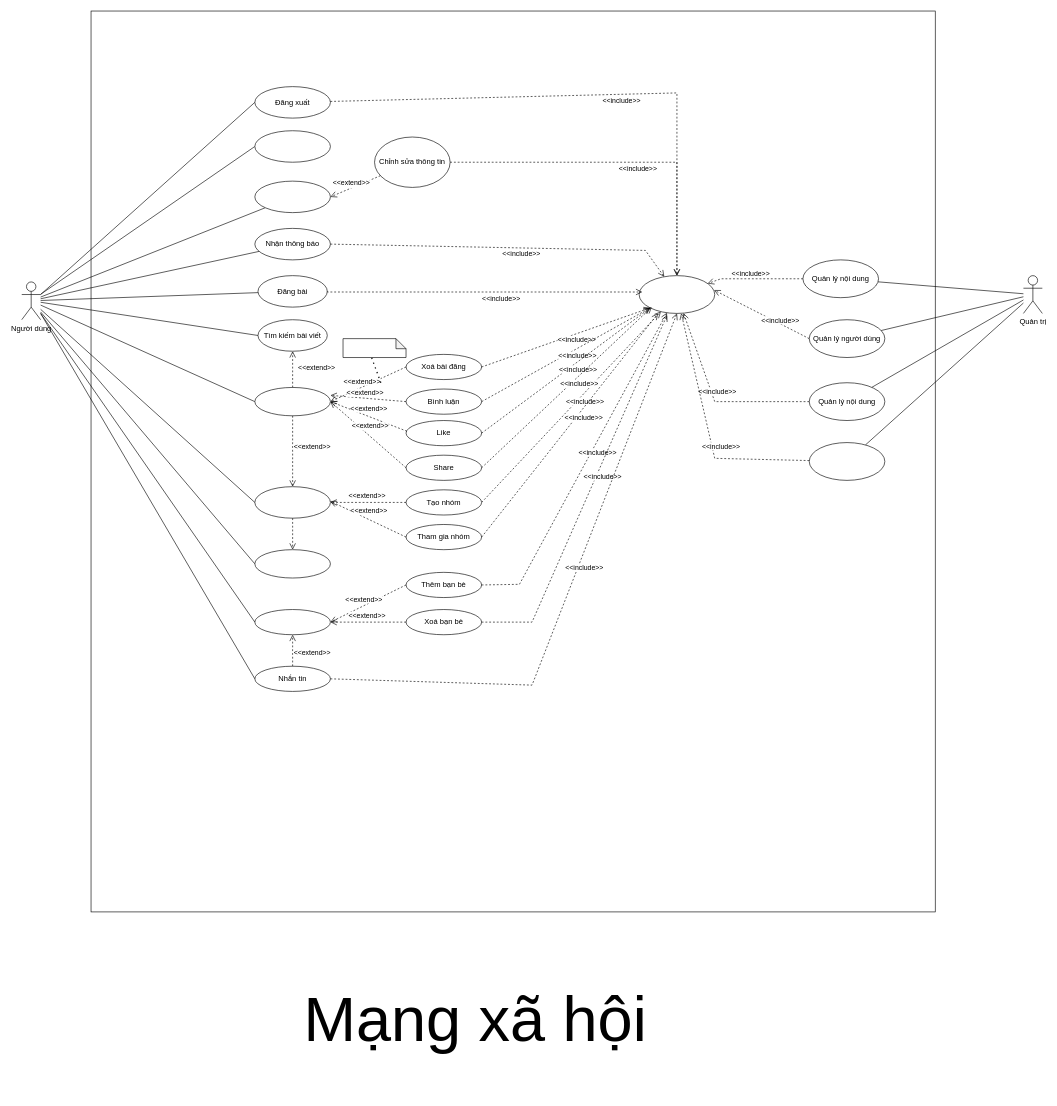
Some shapes in this 1057 by 1106 pixel diagram are drawn without their labels. The shapes that lost their labels are listed below. From the top down, each one's box as (x1, y1, x2, y2) in pixels, then its label:
(254, 130, 330, 162): Đăng ký
(254, 180, 330, 213): Hồ sơ cá nhân
(639, 275, 715, 313): Đăng nhập
(342, 338, 406, 358): ĐK: Người đăng
(254, 387, 330, 416): Xem bài viết
(809, 442, 885, 480): Quản lý nhóm
(254, 486, 330, 518): Hội nhóm
(254, 549, 330, 578): Tìm hội nhóm
(254, 609, 330, 635): Bạn bè
